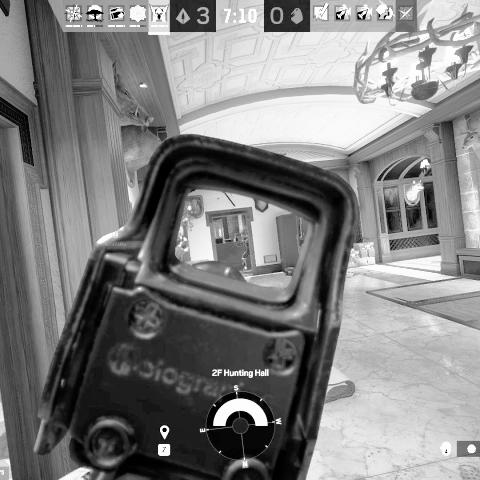Character: (241, 232, 251, 272)
Friend_label: (103, 228, 129, 249)
